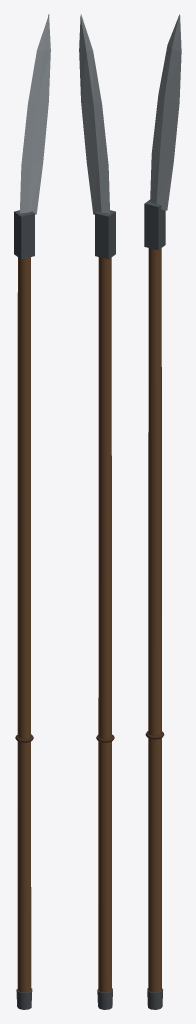
Rendered from glaive.glb.
The picture shows the model from 3 angles, left to right: view 1: azimuth 30°, elevation 25°; view 2: azimuth 150°, elevation 25°; view 3: azimuth 330°, elevation 25°; orthographic projection.
Parts seen in each view (by area): view 1: glaive-shaft, glaive-blade, glaive-socket, glaive-butt-cap; view 2: glaive-shaft, glaive-blade, glaive-socket, glaive-butt-cap; view 3: glaive-shaft, glaive-blade, glaive-socket, glaive-butt-cap.
Part boxes in pixels (x1,y1,x2,y2): glaive-shaft: (17, 257, 31, 992); glaive-blade: (19, 14, 50, 214); glaive-socket: (14, 210, 34, 259); glaive-butt-cap: (16, 988, 32, 1009); glaive-shaft: (98, 257, 111, 992); glaive-blade: (79, 14, 110, 214); glaive-socket: (95, 210, 115, 259); glaive-butt-cap: (97, 988, 112, 1009); glaive-shaft: (148, 248, 161, 992); glaive-blade: (150, 14, 181, 210); glaive-socket: (144, 199, 165, 250); glaive-butt-cap: (147, 988, 162, 1009).
Bounding box in the file's own units: 0.0655 × 1.8 × 0.0307.
